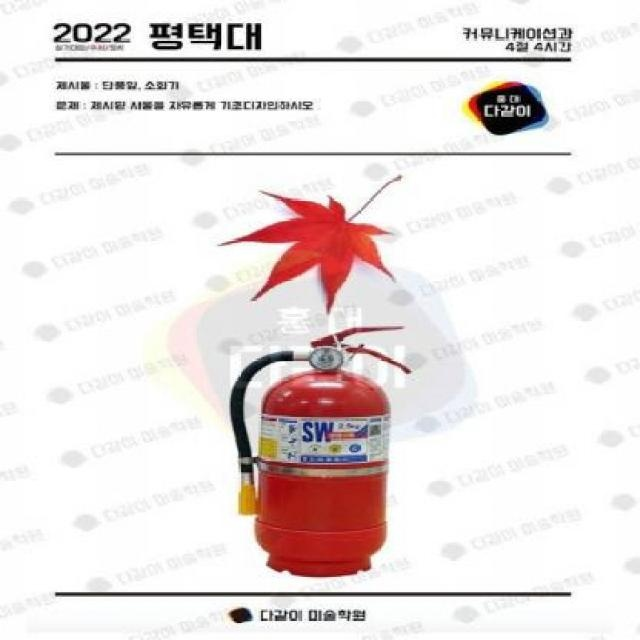fire extinguisher: (230, 326, 412, 579)
